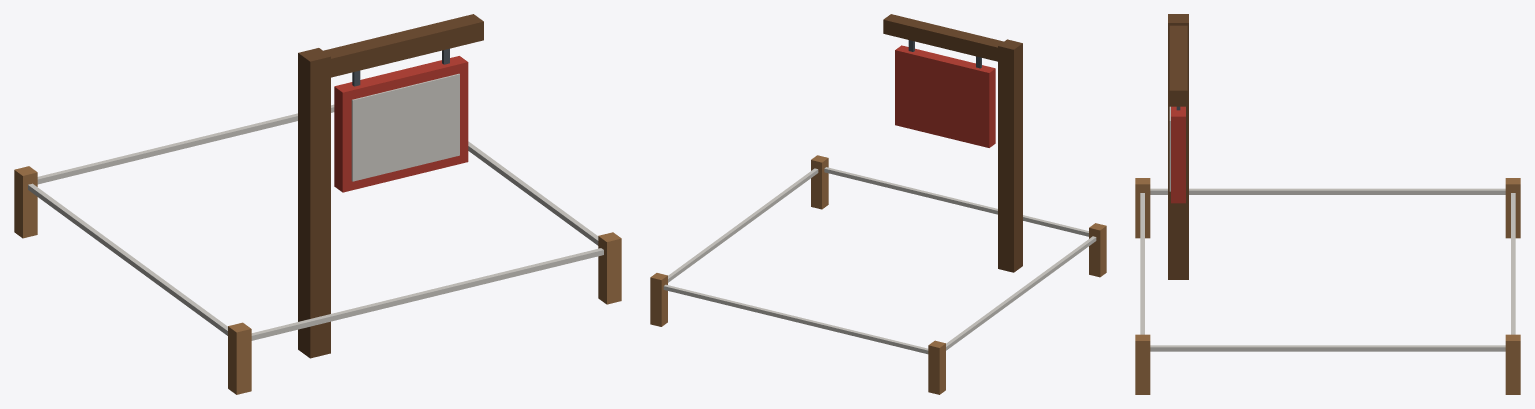
The model's file is v2-empty-plot.glb.
The picture shows the model from 3 angles, left to right: view 1: azimuth 30°, elevation 25°; view 2: azimuth 150°, elevation 25°; view 3: azimuth 270°, elevation 25°; orthographic projection. The views are drawn at different scales.
Parts seen in each view (by area): view 1: v2-empty-plot; view 2: v2-empty-plot; view 3: v2-empty-plot.
Part boxes in pixels (box(x1,y1,x2,y2)): v2-empty-plot: box(14, 14, 621, 394); v2-empty-plot: box(650, 14, 1106, 394); v2-empty-plot: box(1135, 14, 1520, 394).
Size of the model in its own units: 1.29 by 0.95 by 1.29.
